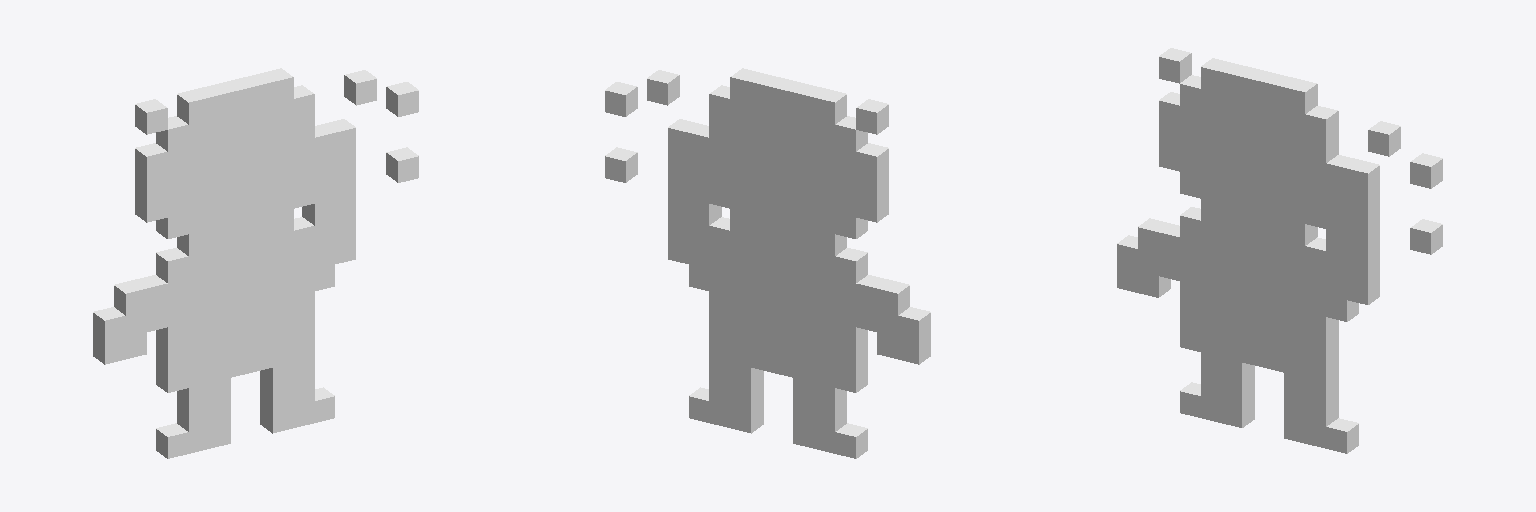
File: Win1.obj
3 renders of one model, left to right at view 1: azimuth 30°, elevation 25°; view 2: azimuth 150°, elevation 25°; view 3: azimuth 330°, elevation 25°, orthographic.
Visible parts, largest first — view 1: object 1; view 2: object 1; view 3: object 1.
Part boxes in pixels (left/top/right/bottom): object 1: left=93, top=68, right=418, bottom=458; object 1: left=605, top=68, right=930, bottom=458; object 1: left=1117, top=48, right=1442, bottom=453.
Size of the model in its own units: 1.5 by 1.6 by 0.1.